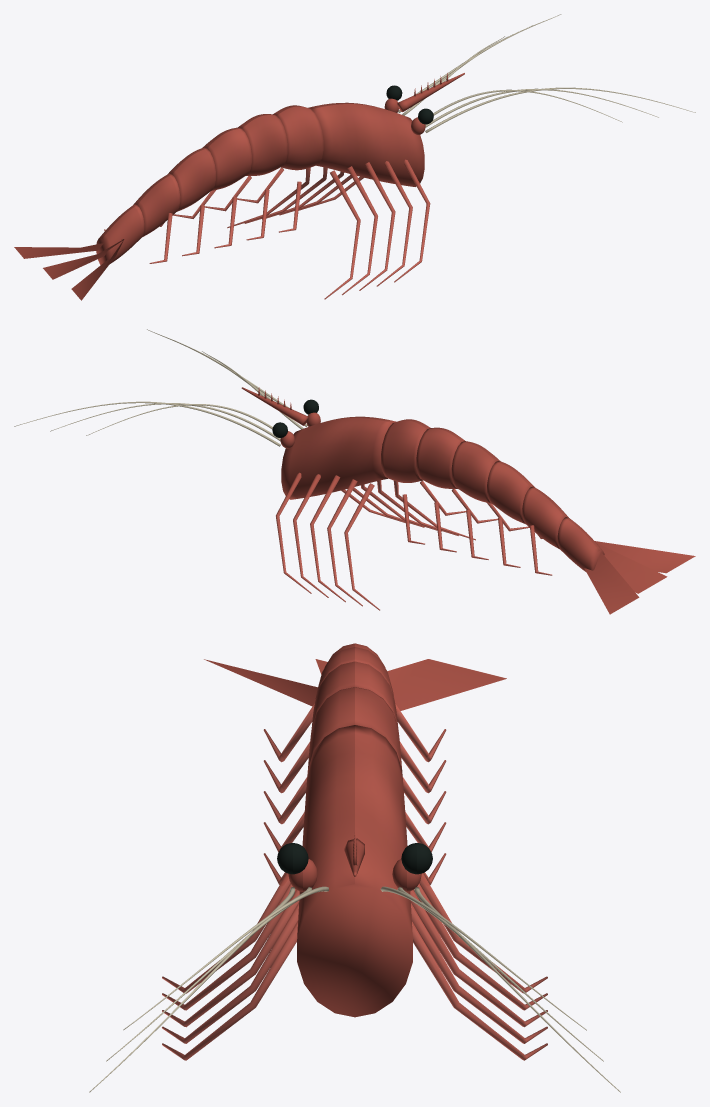
File: cherryshrimp-desktop.glb
3 views of the same model, one above another, from view 1: azimuth 30°, elevation 25°; view 2: azimuth 150°, elevation 25°; view 3: azimuth 270°, elevation 25° (orthographic). The views are drawn at different scales.
Parts seen in each view (by area): view 1: carapace, pereiopod, antenna, pleopod, serrated-rostrum; view 2: carapace, pereiopod, antenna, pleopod, serrated-rostrum; view 3: carapace, pereiopod, pleopod, antenna, eye, eye-stalk.
Part boxes in pixels (x1,y1,x2,y2): carapace: (14,102,424,300); pereiopod: (227,159,430,299); antenna: (398,14,695,132); pleopod: (104,167,301,263); serrated-rostrum: (397,73,464,111); carapace: (281,416,695,614); pereiopod: (276,472,475,610); antenna: (14,329,307,446); pleopod: (402,480,552,575); serrated-rostrum: (241,387,308,425); carapace: (204,643,506,1017); pereiopod: (162,873,547,1060); pleopod: (263,703,446,884); antenna: (89,886,620,1092); eye: (277,843,432,874); eye-stalk: (288,859,421,891).
Bounding box in the file's own units: 1.18 × 0.2938 × 0.4706.
